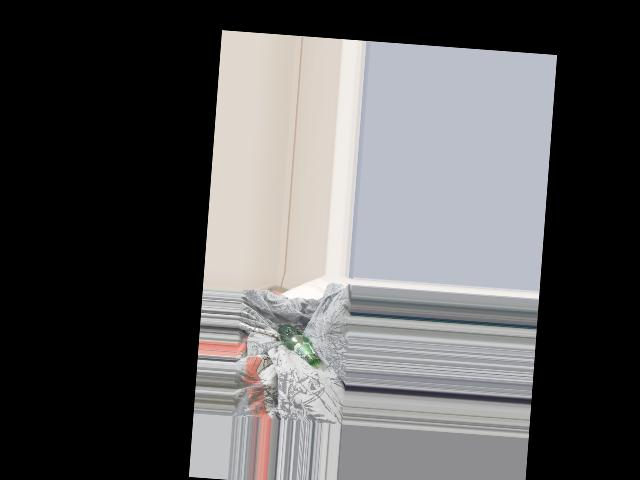beer: (275, 324, 322, 366)
